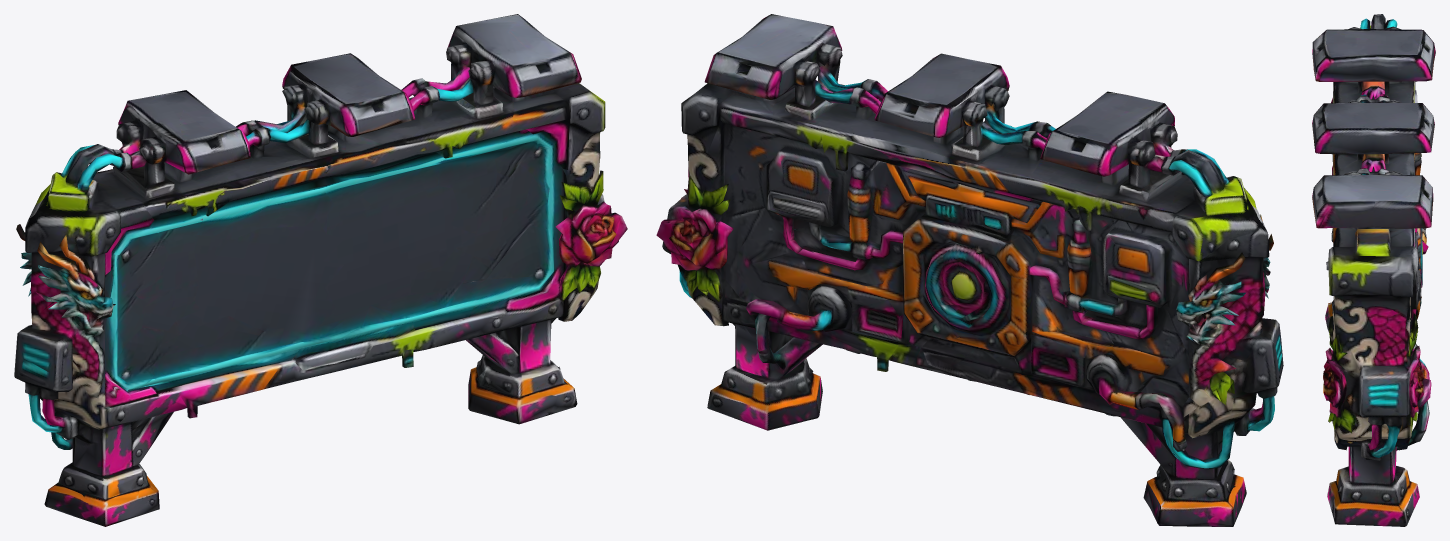
The model's file is GW_D01_billboard_frame.glb.
3 views of the same model, side by side, from view 1: azimuth 30°, elevation 25°; view 2: azimuth 150°, elevation 25°; view 3: azimuth 270°, elevation 25° (orthographic). The views are drawn at different scales.
Visible parts, largest first — view 1: tripo_node_eee5a3da-eb64-4618-835a-c681b671f9eb; view 2: tripo_node_eee5a3da-eb64-4618-835a-c681b671f9eb; view 3: tripo_node_eee5a3da-eb64-4618-835a-c681b671f9eb.
Boxes of the visible parts, left/top/right/bottom form: tripo_node_eee5a3da-eb64-4618-835a-c681b671f9eb: left=14, top=14, right=627, bottom=526; tripo_node_eee5a3da-eb64-4618-835a-c681b671f9eb: left=656, top=14, right=1283, bottom=526; tripo_node_eee5a3da-eb64-4618-835a-c681b671f9eb: left=1312, top=14, right=1435, bottom=526.
Size of the model in its own units: 1 by 0.5927 by 0.2056.
1 material, 1 textured.
